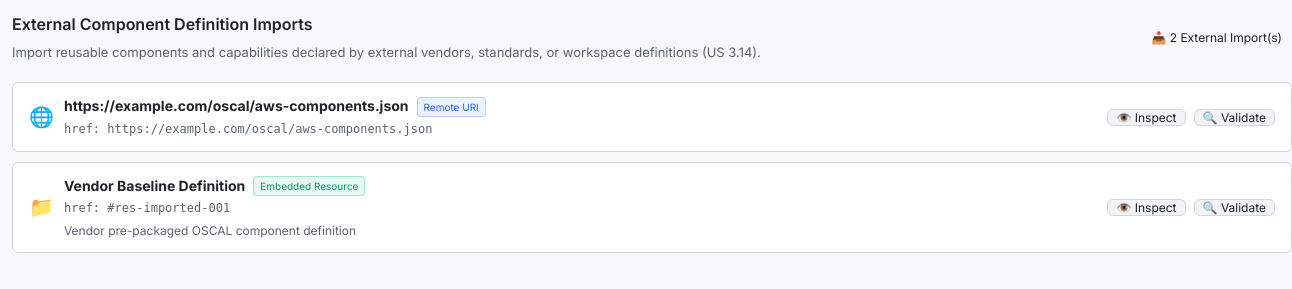
Test: ImportDefinitionsEditor Unit Tests › validates an imported document against OSCAL schema on demand
The width and height of the screenshot is (1292, 289).
Click the button "🔍 Validate" in the row of "#res-imported-001".
click(1234, 207)  # box x1=1194 y1=199 x2=1275 y2=216
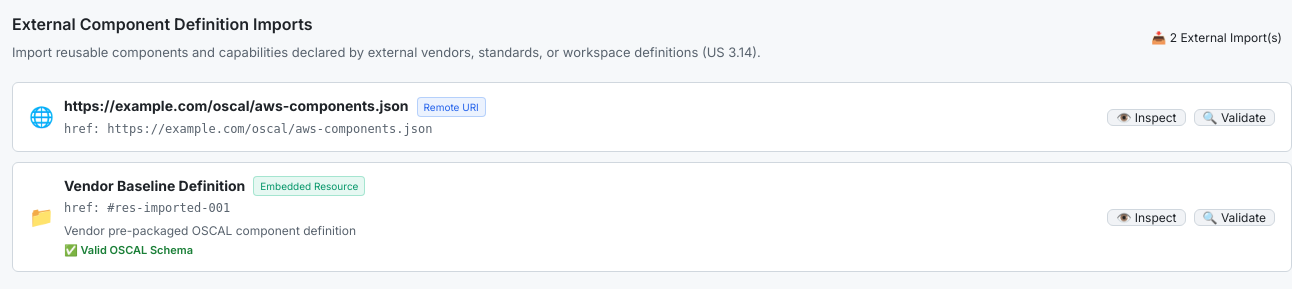
Expected: the text "✅ Valid OSCAL Schema" is shown, x1=64 y1=243 x2=193 y2=257
